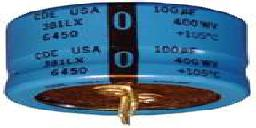Electrolytic Capacitor: (4, 4, 254, 125)
